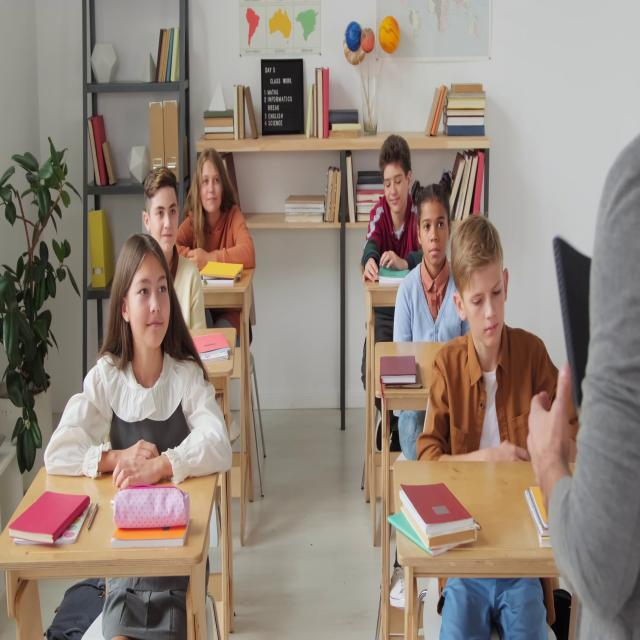listening: (417, 222, 571, 628), (47, 235, 238, 485), (181, 146, 260, 343), (392, 180, 467, 358), (145, 166, 213, 328)
reading: (360, 134, 421, 284)
